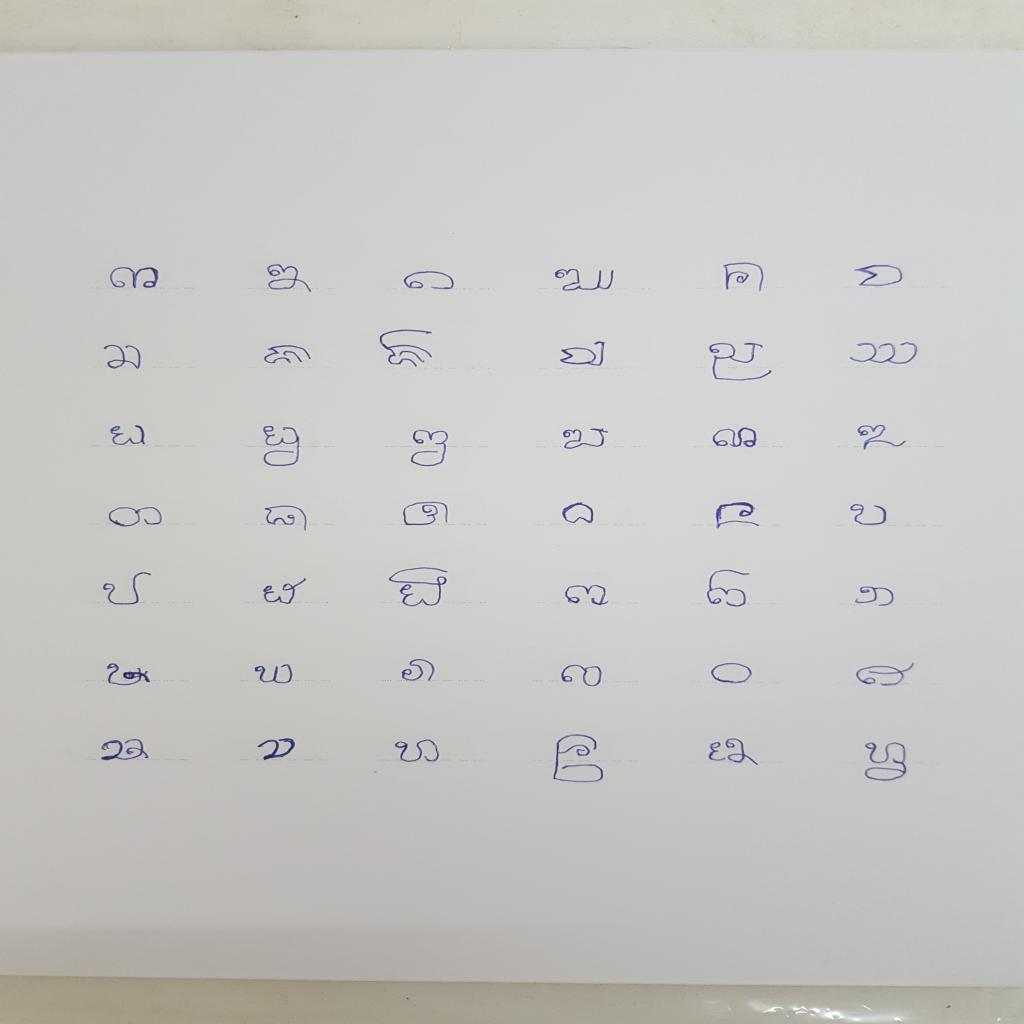LN001: (104, 265, 166, 293)
LN002: (262, 262, 319, 297)
LN003: (400, 269, 460, 294)
LN005: (718, 260, 771, 296)
LN006: (852, 263, 907, 291)
LN008: (260, 342, 318, 369)
LN009: (375, 327, 441, 372)
LN010: (555, 339, 612, 371)
LN012: (844, 341, 924, 368)
LN013: (105, 422, 153, 450)
LN014: (258, 424, 307, 470)
LN016: (557, 426, 616, 453)
LN019: (106, 505, 168, 530)
LN020: (260, 504, 314, 535)
LN021: (398, 500, 454, 529)
LN022: (560, 500, 600, 528)
LN024: (845, 502, 893, 529)
LN025: (99, 570, 157, 608)
LN027: (385, 565, 454, 610)
LN029: (702, 568, 757, 611)
LN030: (852, 584, 900, 610)
LN032: (250, 663, 300, 688)
LN033: (397, 656, 441, 686)
LN035: (706, 661, 759, 687)
LN036: (852, 660, 921, 690)
LN039: (388, 737, 447, 767)
LN040: (548, 732, 611, 786)
LN041: (703, 737, 765, 771)
LN042: (861, 740, 913, 786)
